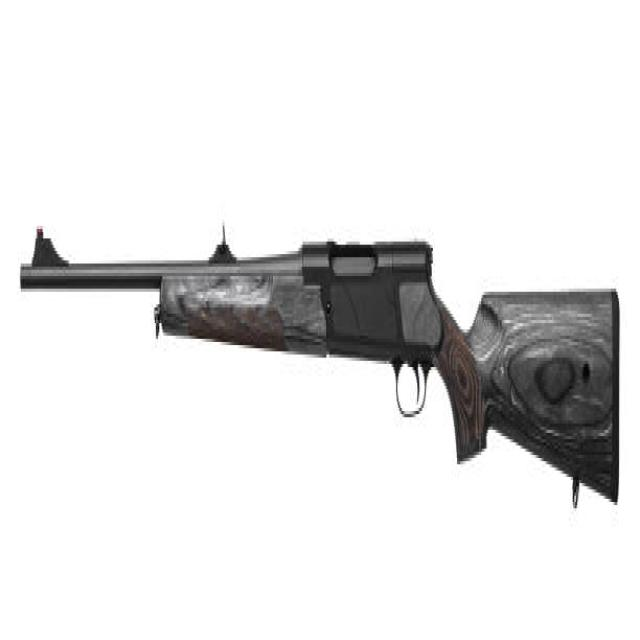rifle: (14, 217, 627, 522)
